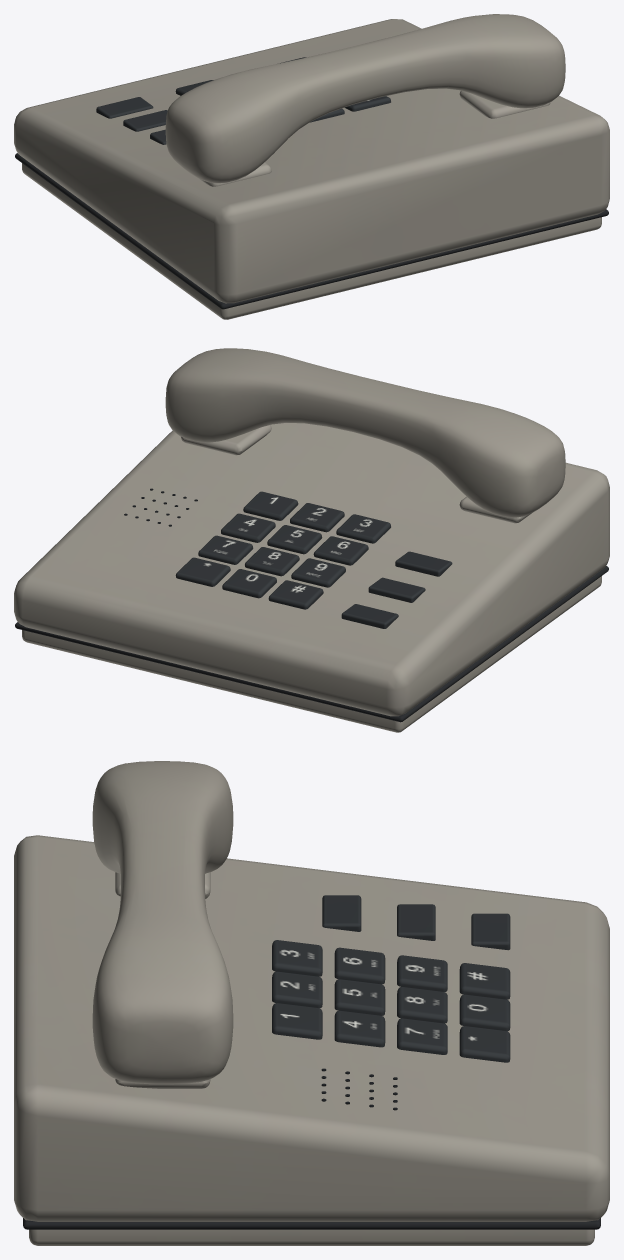
The model's file is telefone_realista.glb.
The picture shows the model from 3 angles, top to bottom: view 1: azimuth 30°, elevation 25°; view 2: azimuth 150°, elevation 25°; view 3: azimuth 270°, elevation 25°; orthographic projection. The views are drawn at different scales.
Visible parts, largest first — view 1: Base, Fone; view 2: Base, Fone; view 3: Base, Fone.
Boxes of the visible parts, box(x1,y1,x2,y2) form: Base: box(14, 19, 609, 319); Fone: box(165, 14, 565, 183); Base: box(14, 423, 609, 732); Fone: box(165, 348, 565, 517); Base: box(14, 835, 609, 1245); Fone: box(92, 761, 233, 1084).
Bounding box in the file's own units: 0.212 × 0.0973 × 0.2.
Materials: 1 (1 with a texture image).
